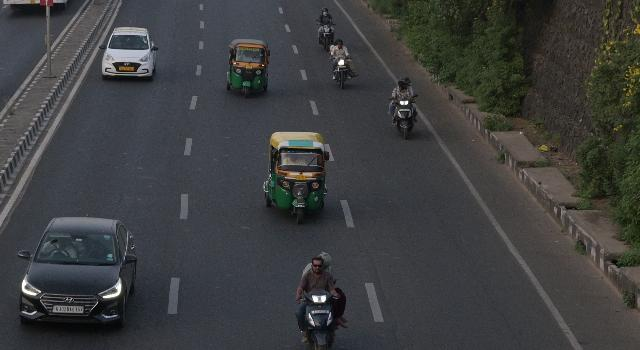With Helmet: (398, 76, 409, 91), (321, 6, 329, 16), (336, 39, 342, 49)
Without Helmet: (320, 252, 332, 272), (310, 258, 324, 274)
